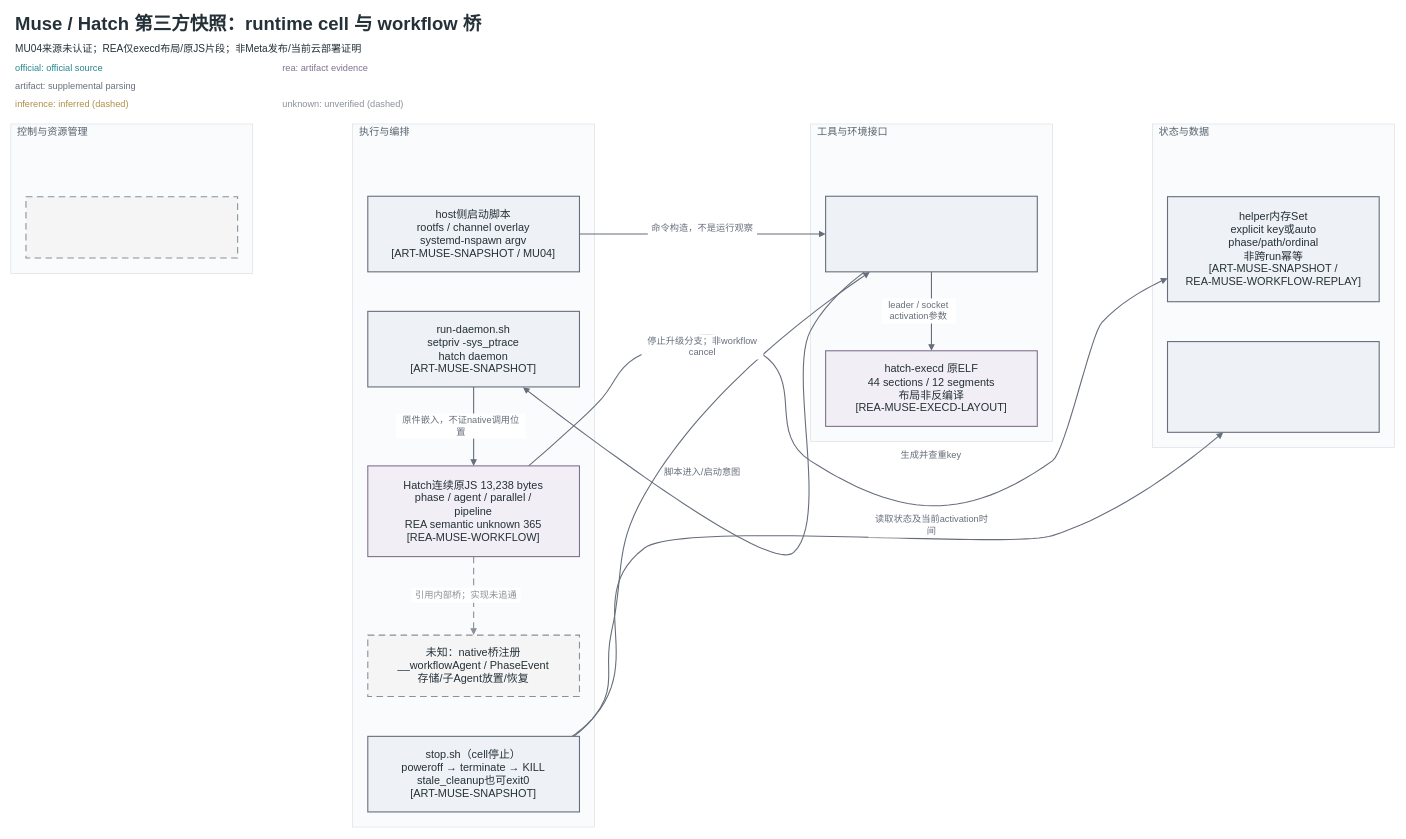
Some shapes in this 1406 by 839 pixel diagram are drawn without their labels. The box of each missing label's shape, as (x1, y1, x2, y2) in pixels:
Postgres / clean-proof unit状态 activation时间约束 非备份/restore验收 [ART-MUSE-SNAPSHOT]: (1167, 341, 1379, 432)
runtime cell（脚本目标） 完整nspawn/host units缺失 未在本机启动 [ART-MUSE-SNAPSHOT]: (825, 195, 1037, 272)
官方用户VM安全域另见meta-muse 快照主体/版本未认证 cell外动作/任务全停未知: (25, 196, 238, 258)
